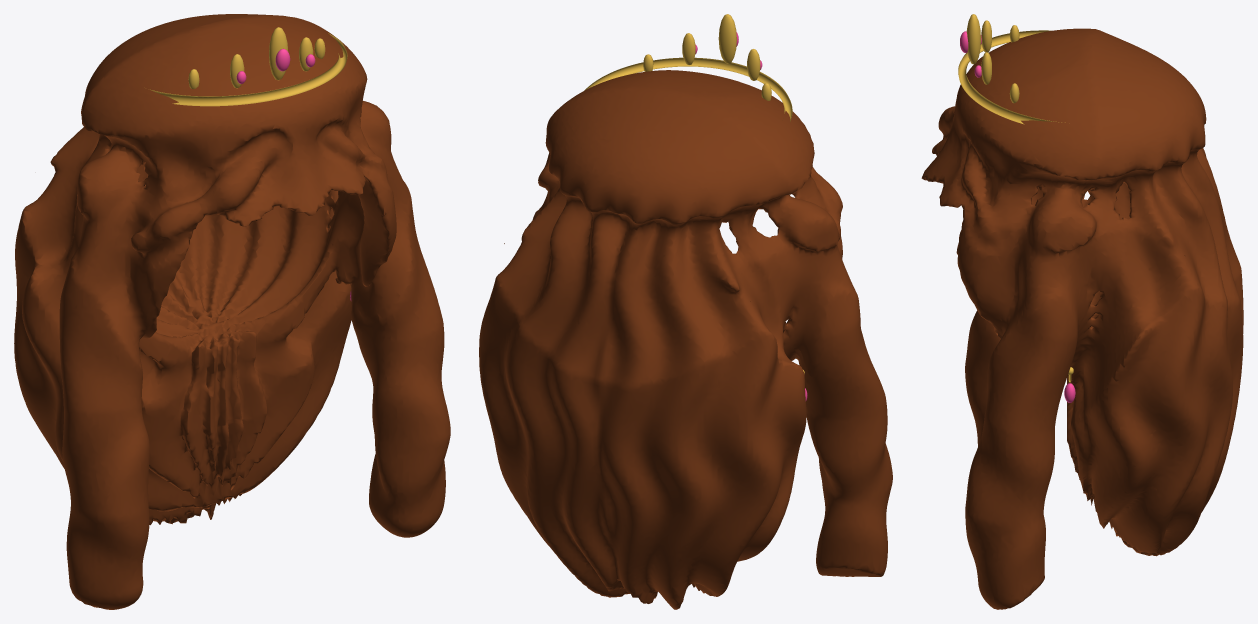
File: hair-long.glb
3 renders of one model, left to right at view 1: azimuth 30°, elevation 25°; view 2: azimuth 150°, elevation 25°; view 3: azimuth 270°, elevation 25°, orthographic. The views are drawn at different scales.
Parts seen in each view (by area): view 1: hair, tiara; view 2: hair, tiara; view 3: hair, tiara.
Boxes of the visible parts, x1,y1,x2,y2 form: hair: [14, 14, 450, 609]; tiara: [150, 27, 347, 106]; hair: [479, 70, 892, 609]; tiara: [584, 14, 792, 121]; hair: [921, 28, 1243, 609]; tiara: [958, 14, 1065, 124].
Bounding box in the file's own units: 1.25 × 1.78 × 0.9821.
